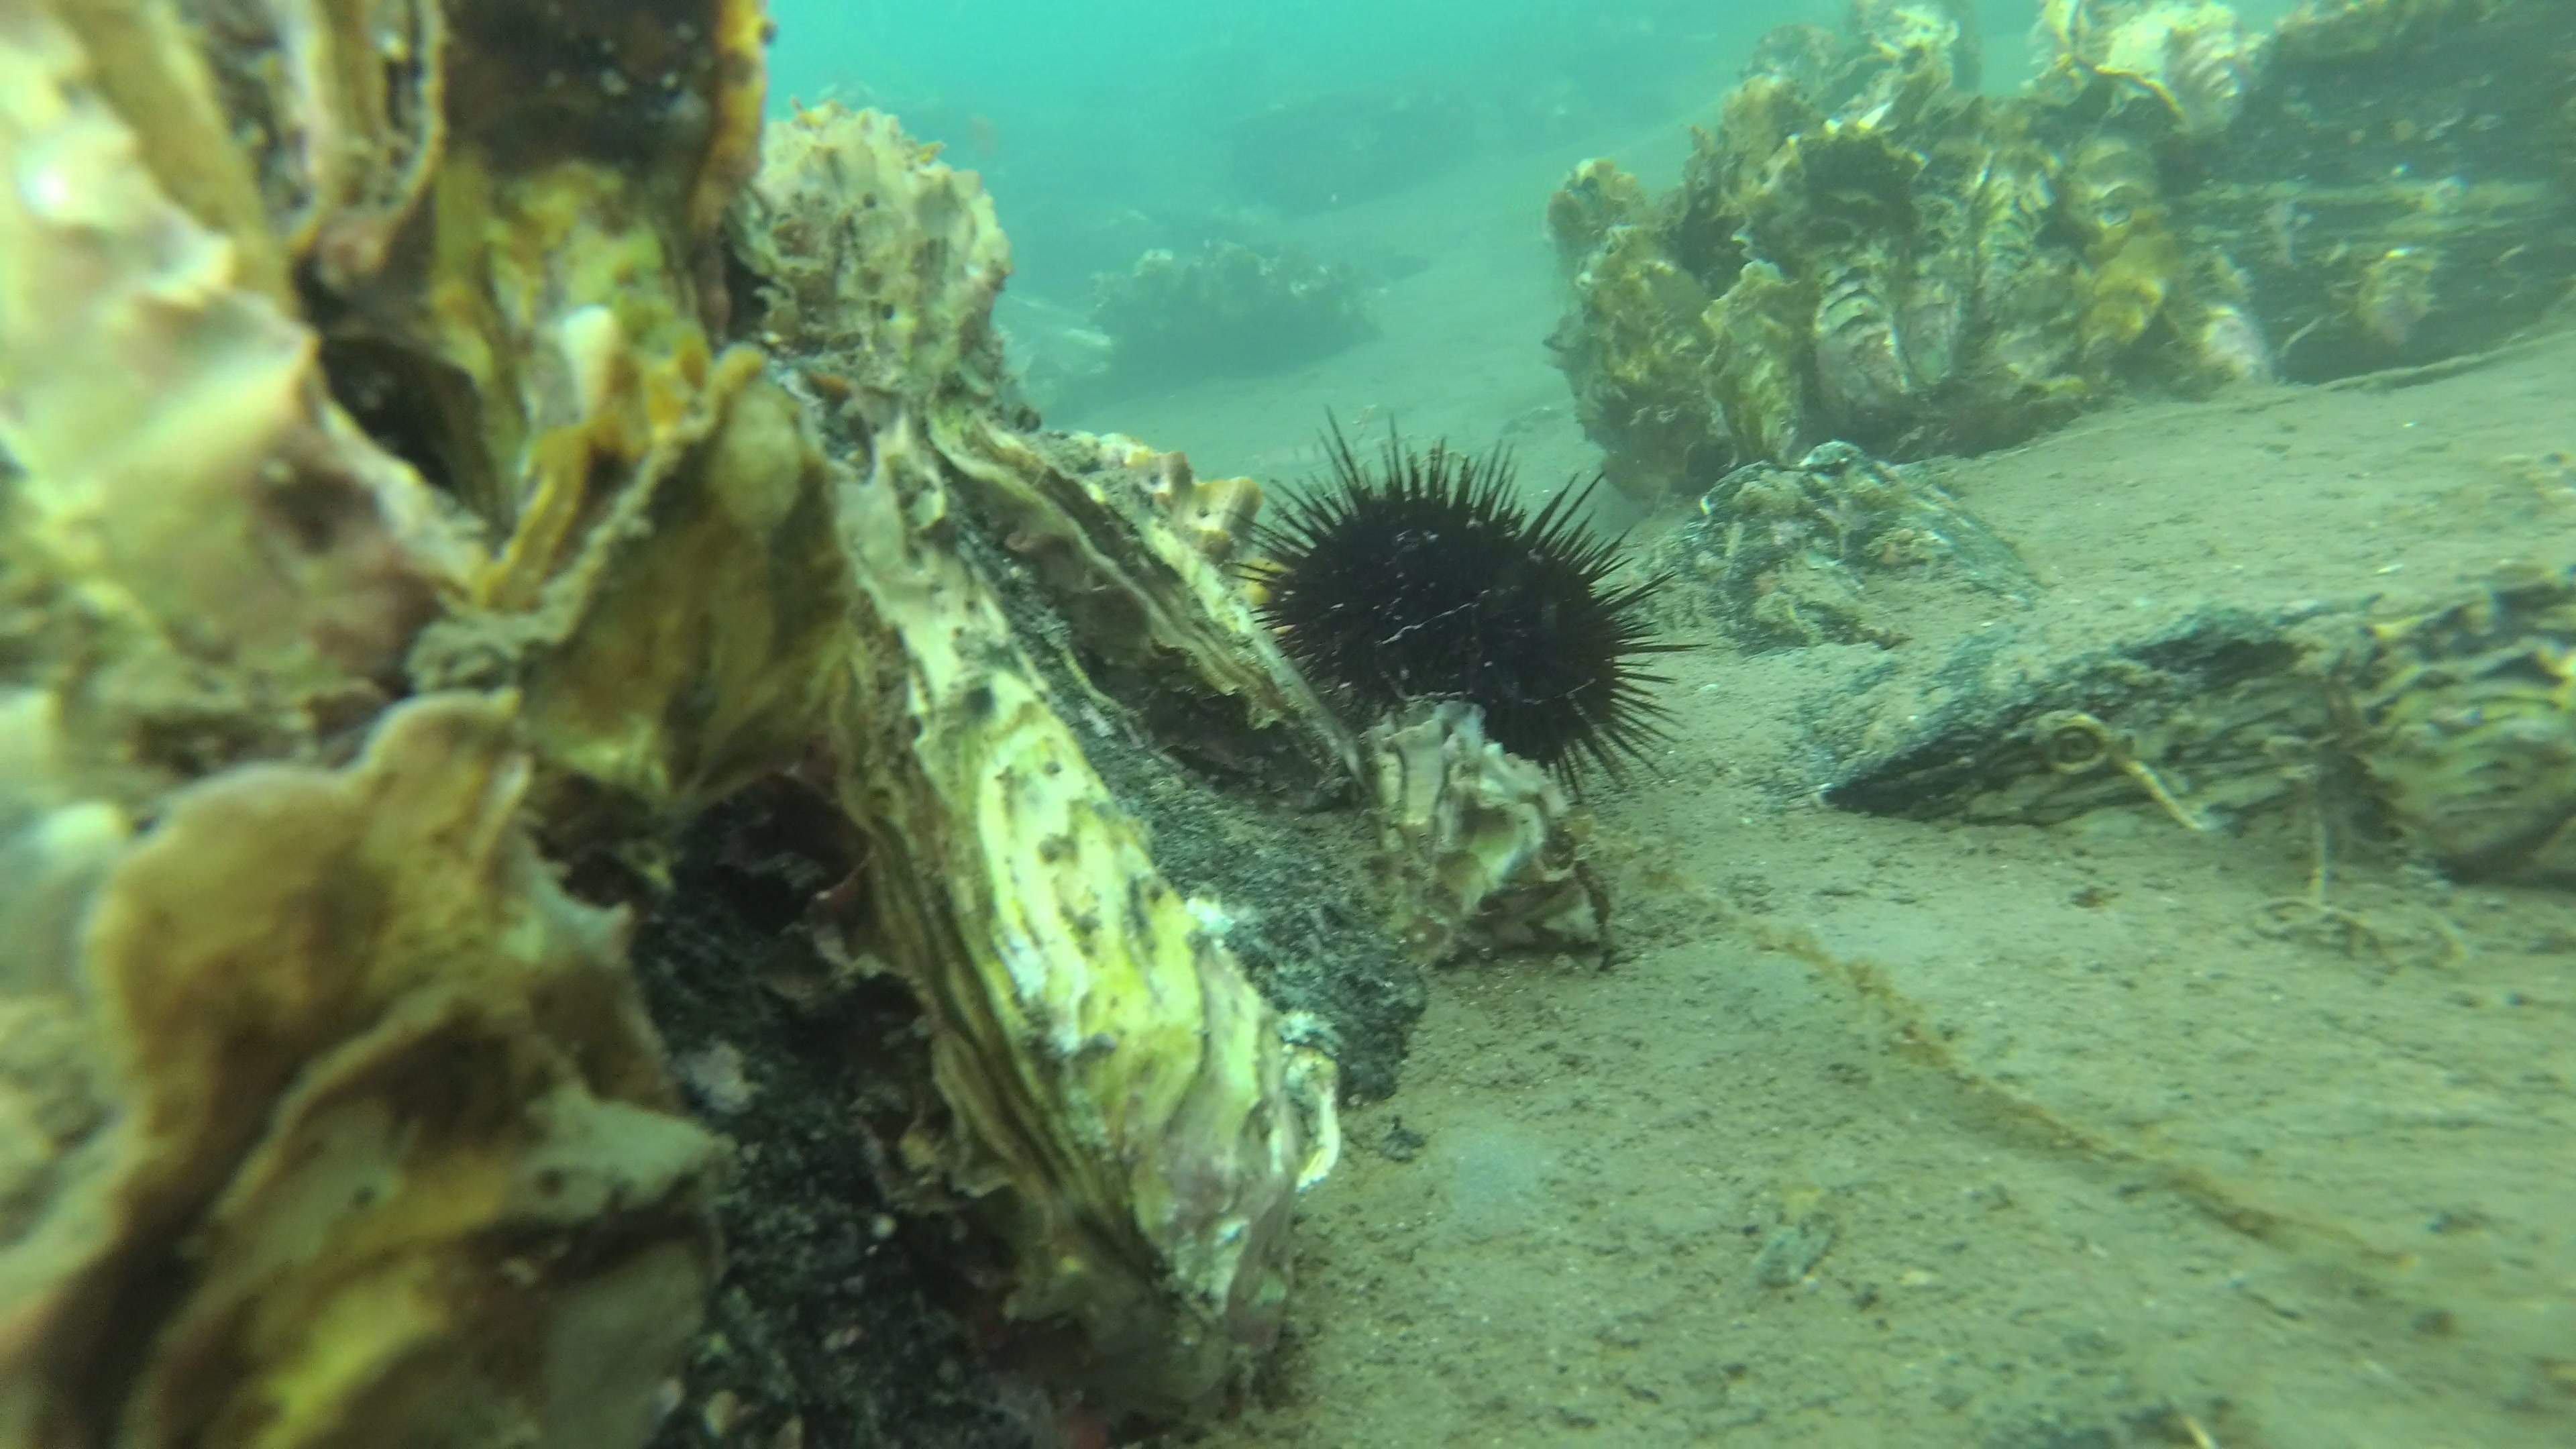echinus: (1223, 407, 1718, 810)
